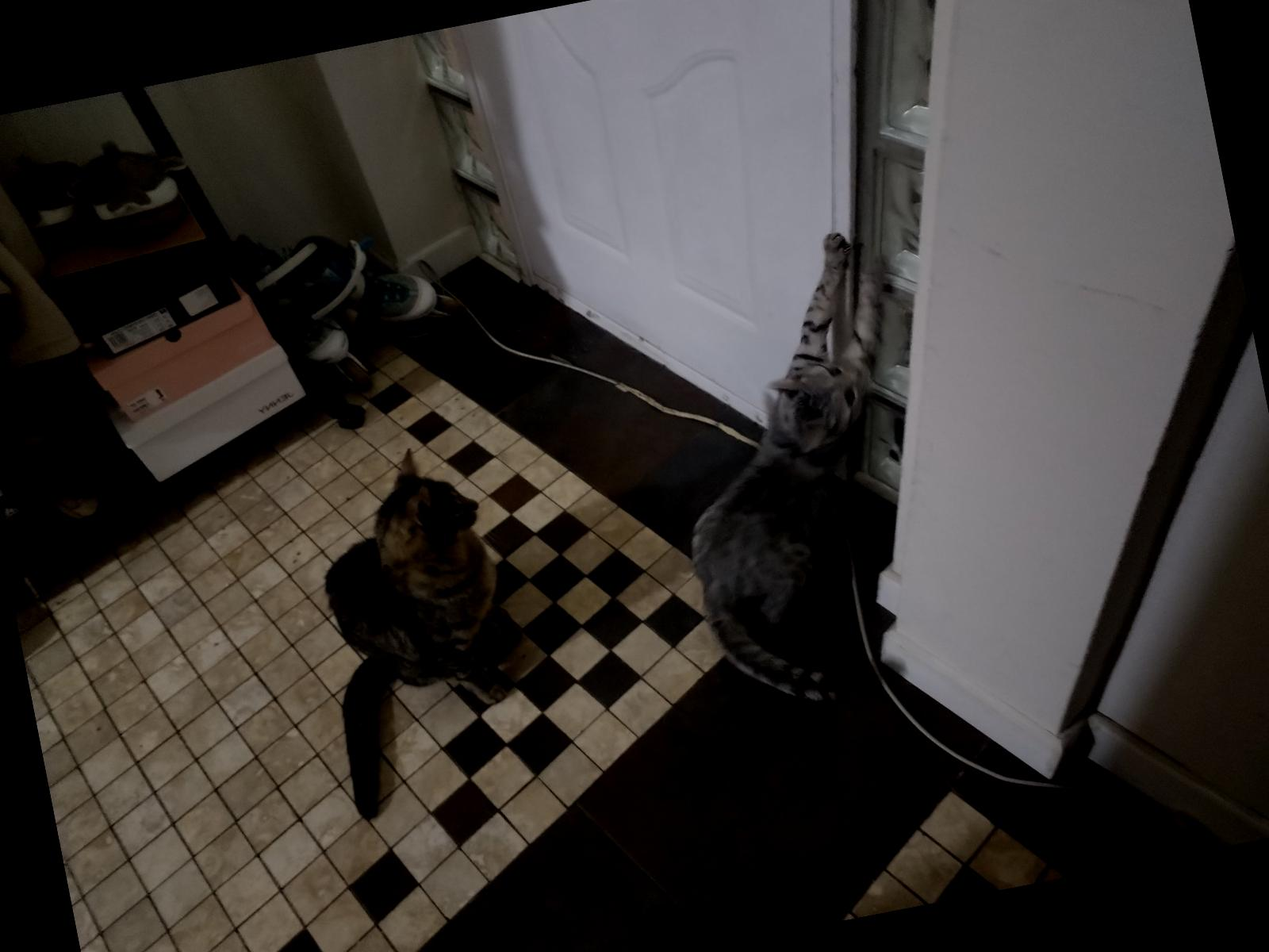macka: (625, 228, 937, 729), (284, 433, 539, 822)
